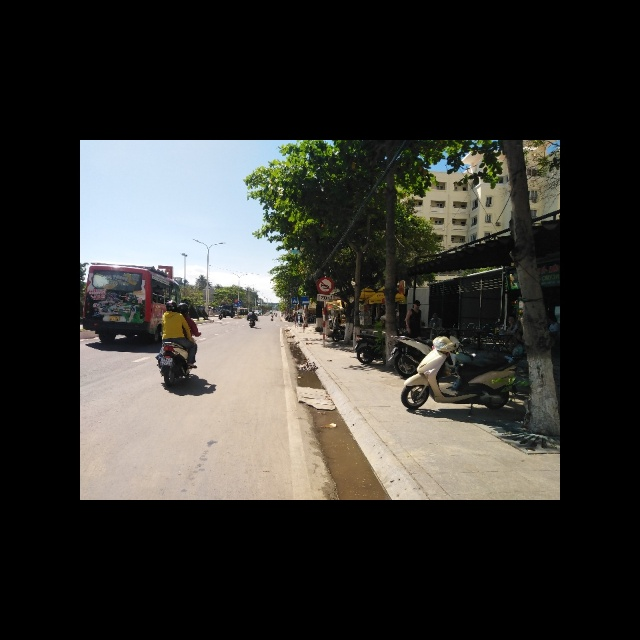Bệnh viện: (301, 296, 310, 305)
Cấm bấm còi: (318, 277, 333, 294)
Đường dành cho người đi bộ: (292, 298, 298, 304)
